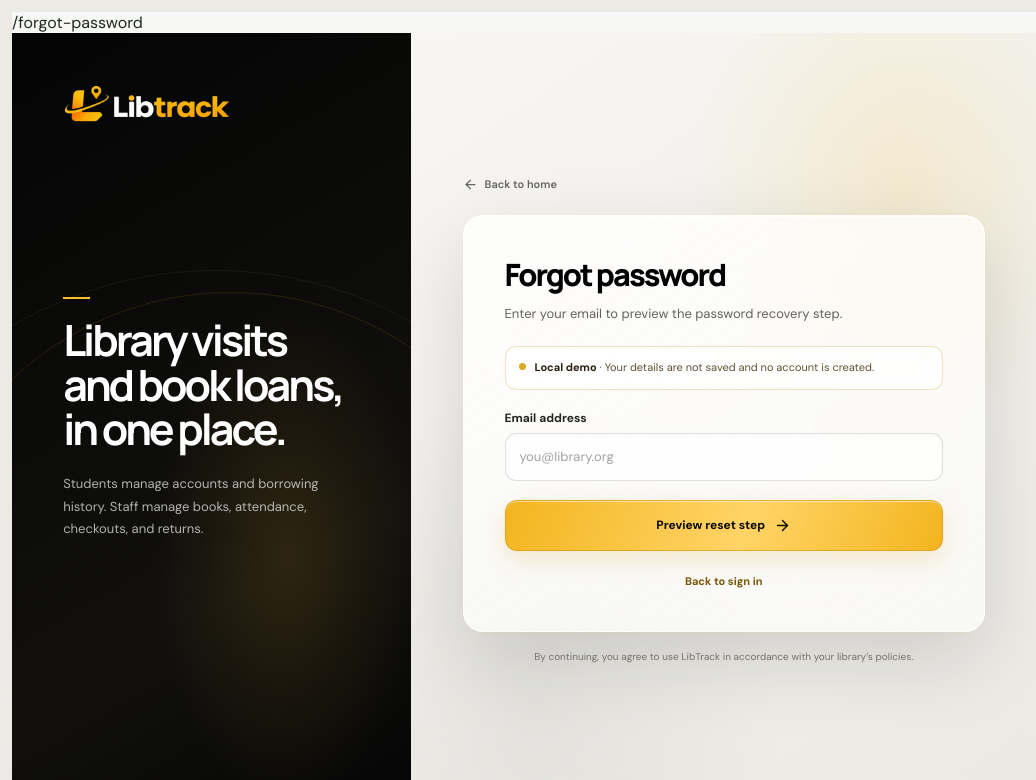
Test case: LibTrack account screens › shows demo-only recovery feedback without sending or saving anything
Later steps or results of the test are not shown.
Type "jordan@example.test" into the field labelled "Email address" at (724, 457), box [504,433,943,481]
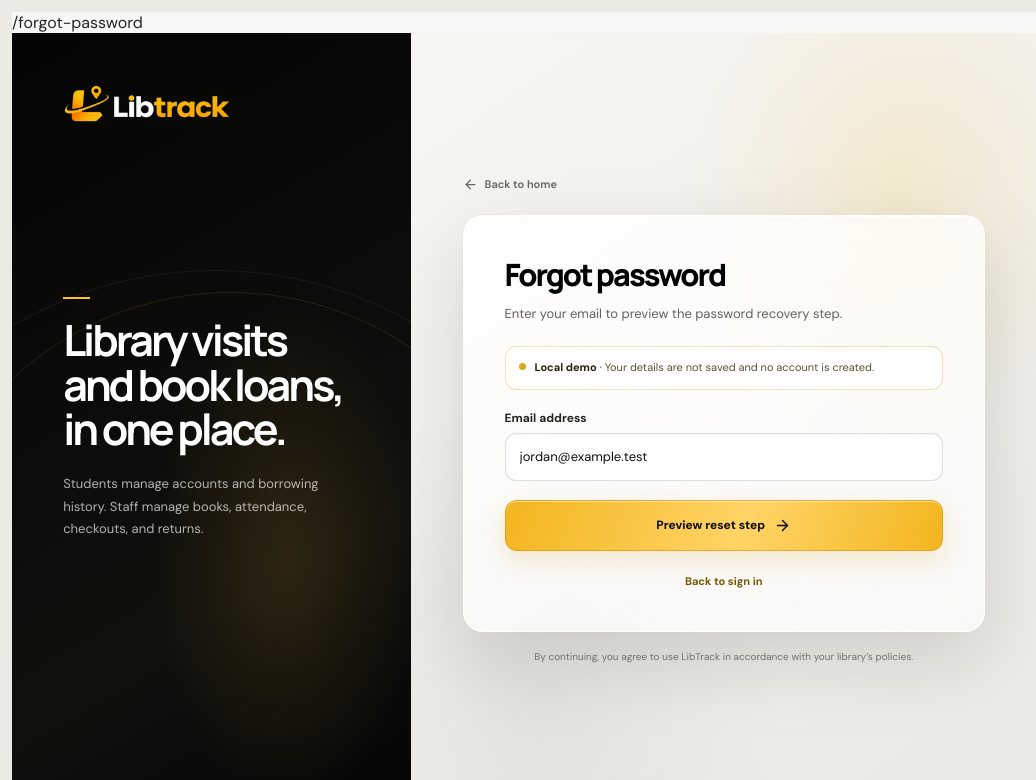
Submit the form named "Forgot password", box [504,410,943,551]
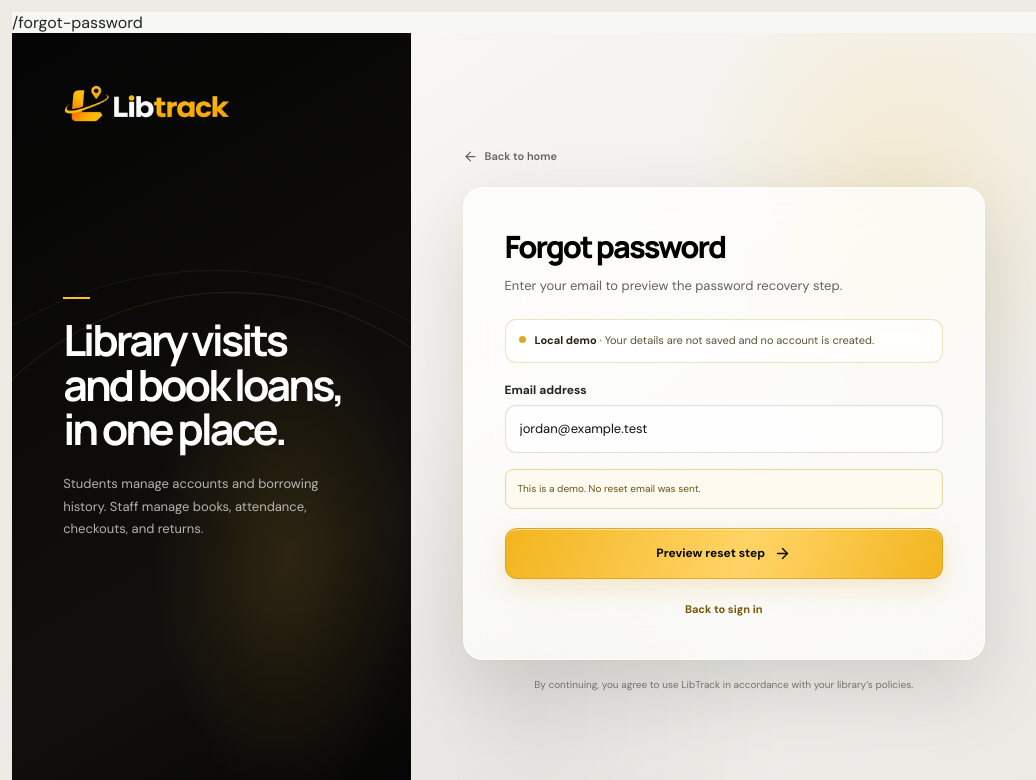
Check: the message shows "No reset email was sent", box [518,482,701,495]
